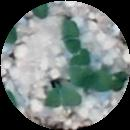Basil: (72, 50, 94, 86), (45, 85, 79, 105), (92, 71, 126, 90), (63, 20, 83, 48)
